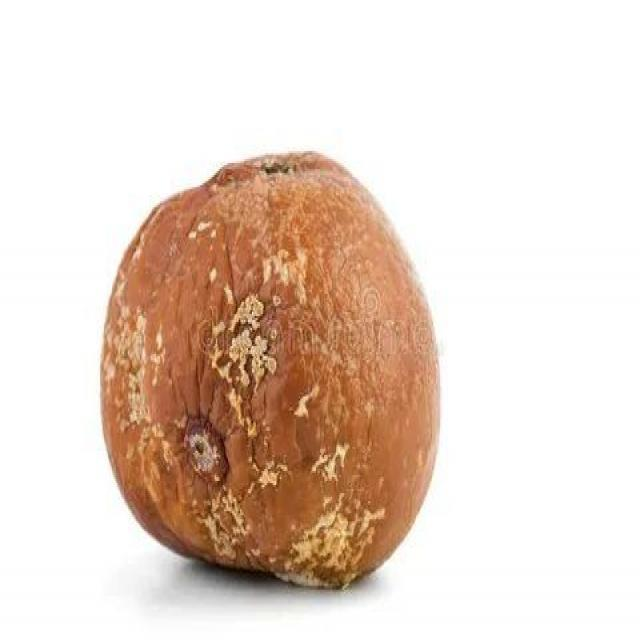Rotten: (104, 163, 438, 592)
